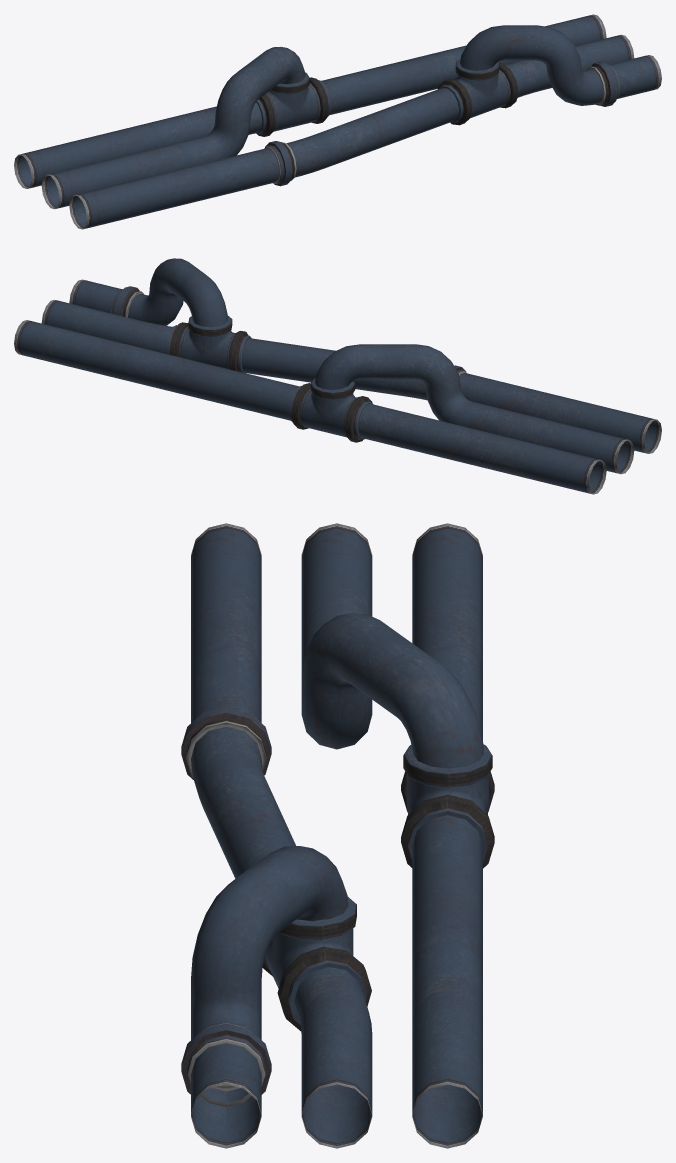
Rendered from Pipe3_E_L0.fbx.
3 renders of one model, top to bottom at view 1: azimuth 30°, elevation 25°; view 2: azimuth 150°, elevation 25°; view 3: azimuth 270°, elevation 25°, orthographic. The views are drawn at different scales.
Parts seen in each view (by area): view 1: PIpe3_E_L0; view 2: PIpe3_E_L0; view 3: PIpe3_E_L0.
Part boxes in pixels (left/top/right/bottom): PIpe3_E_L0: left=14, top=14, right=661, bottom=229; PIpe3_E_L0: left=14, top=258, right=661, bottom=494; PIpe3_E_L0: left=181, top=523, right=494, bottom=1148.
Bounding box in the file's own units: 200 × 29.32 × 47.24.
